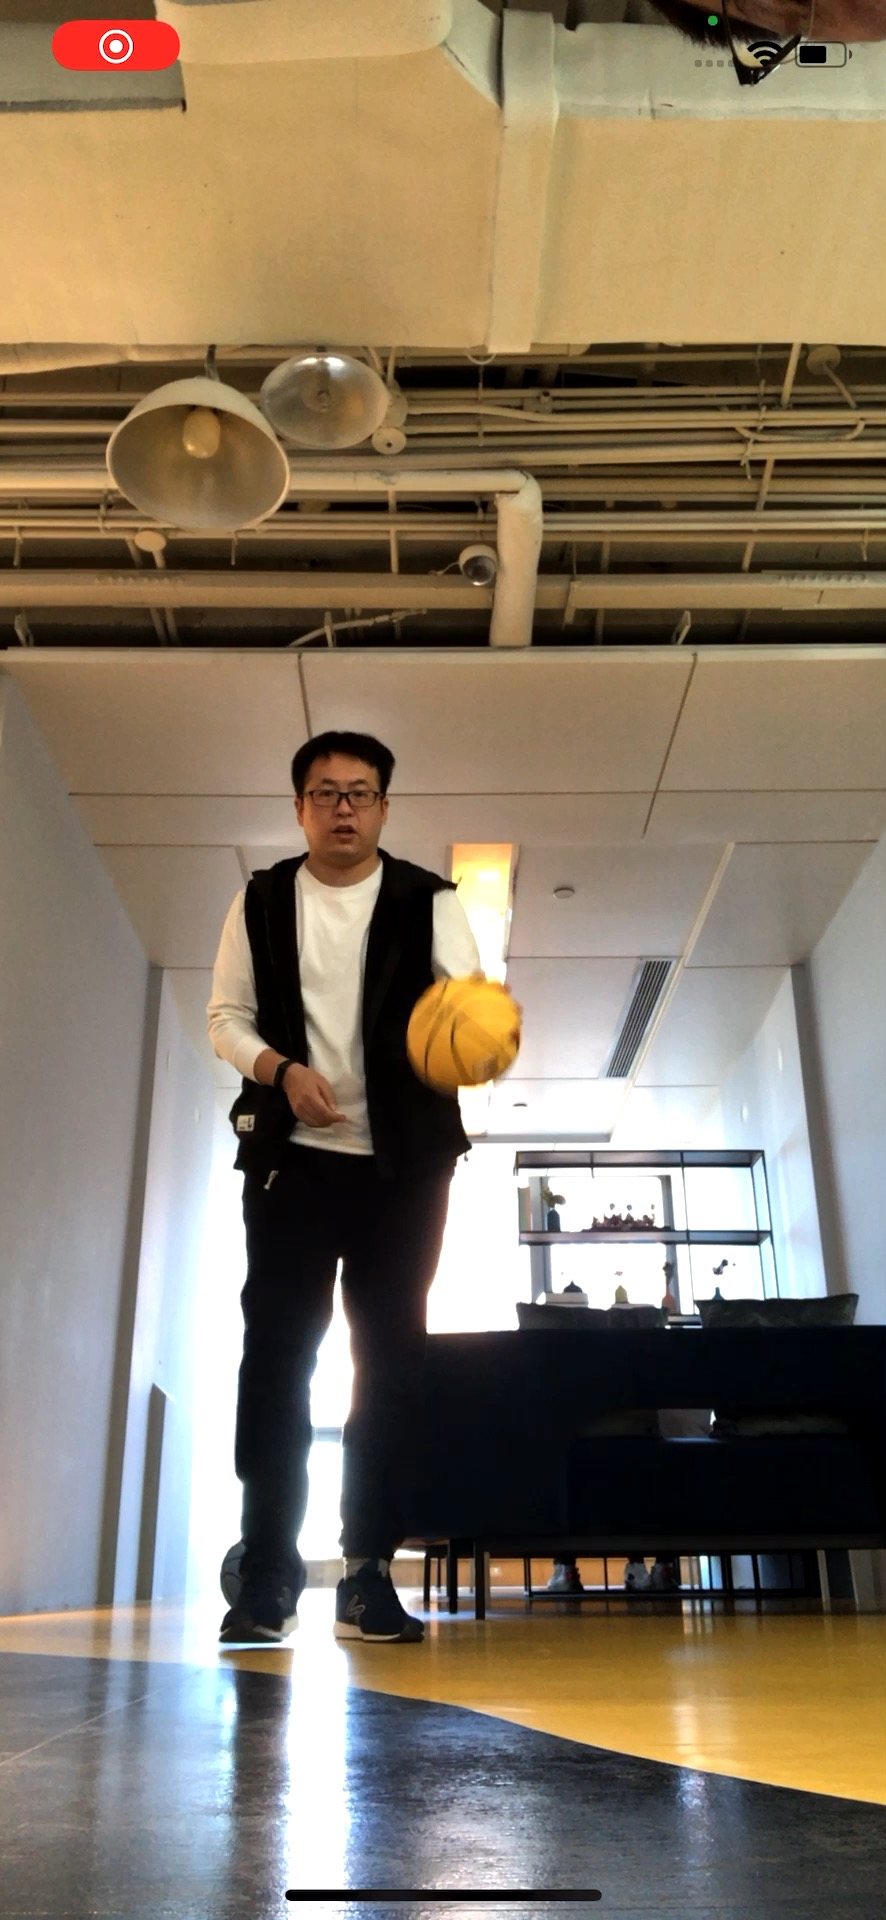ball: (410, 978, 529, 1090)
